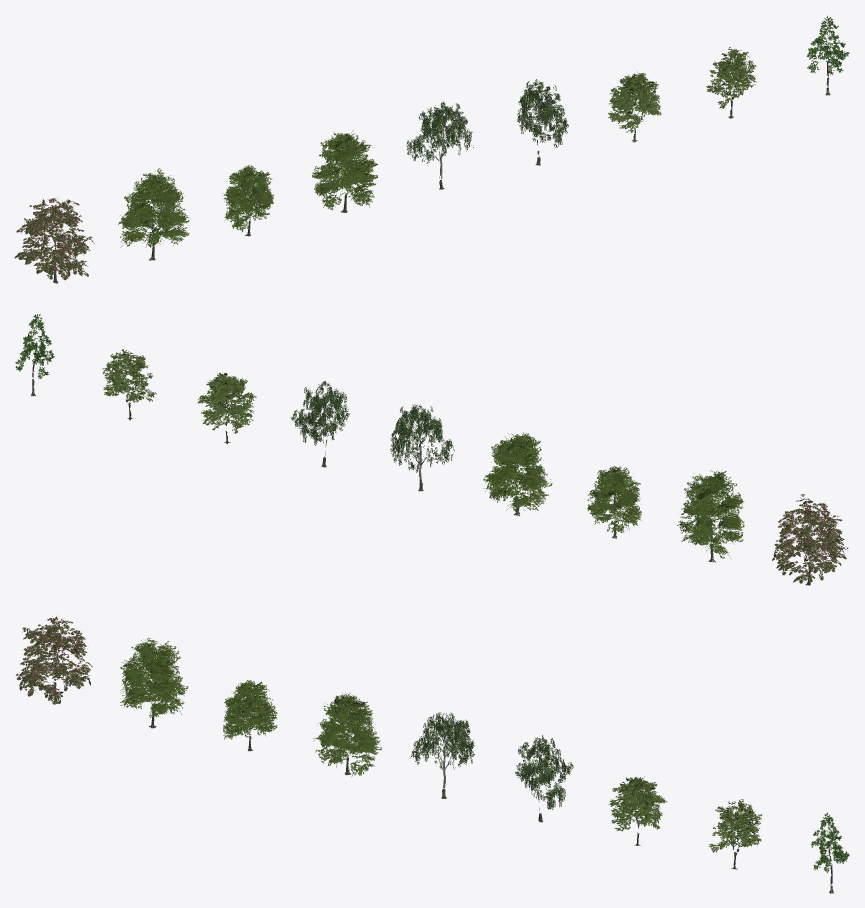
File: pack01.glb
3 views of the same model, one above another, from view 1: azimuth 30°, elevation 25°; view 2: azimuth 150°, elevation 25°; view 3: azimuth 330°, elevation 25° (orthographic).
Parts seen in each view (by area): view 1: Tree_011, Tree_013, Tree_015, Tree_016, Tree_014, Tree_018, Tree_022, Tree_024, Tree_025; view 2: Tree_011, Tree_013, Tree_015, Tree_014, Tree_016, Tree_022, Tree_018, Tree_024, Tree_025; view 3: Tree_011, Tree_013, Tree_015, Tree_016, Tree_018, Tree_014, Tree_022, Tree_024, Tree_025.
Part boxes in pixels (box(x1,y1,x2,y2)): Tree_011: box(14, 198, 94, 283); Tree_013: box(118, 168, 189, 260); Tree_015: box(312, 130, 377, 212); Tree_016: box(406, 101, 473, 189); Tree_014: box(222, 165, 273, 236); Tree_018: box(517, 79, 568, 165); Tree_022: box(608, 71, 661, 142); Tree_024: box(706, 47, 756, 118); Tree_025: box(806, 16, 849, 95); Tree_011: box(772, 494, 848, 585); Tree_013: box(677, 470, 744, 562); Tree_015: box(483, 432, 552, 516); Tree_014: box(587, 466, 641, 538); Tree_016: box(390, 404, 454, 491); Tree_022: box(197, 372, 256, 444); Tree_018: box(290, 381, 349, 467); Tree_024: box(102, 349, 156, 420); Tree_025: box(15, 314, 54, 396); Tree_011: box(16, 614, 92, 704); Tree_013: box(120, 638, 188, 728); Tree_015: box(313, 692, 381, 776); Tree_016: box(410, 712, 474, 798); Tree_018: box(515, 735, 573, 822); Tree_014: box(223, 680, 277, 751); Tree_022: box(609, 776, 666, 845); Tree_024: box(709, 799, 762, 869); Tree_025: box(811, 812, 849, 893).
Size of the model in its own units: 102 by 10.77 by 8.78.
Materials: 10 (10 with a texture image).
